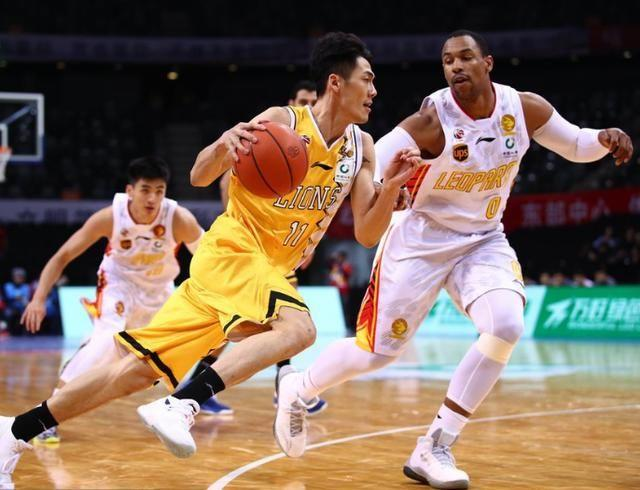ball: (232, 121, 309, 199)
